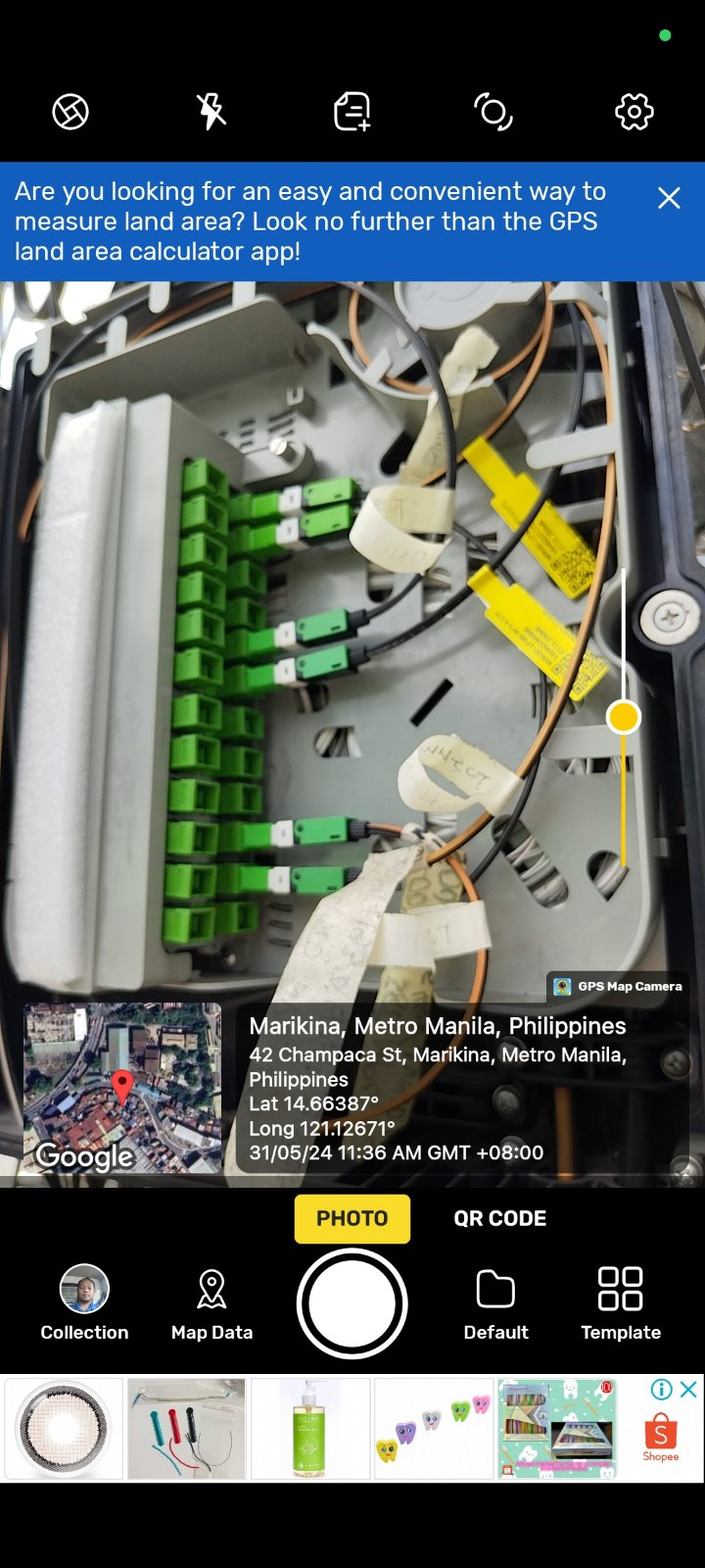no dust cap: (204, 498, 229, 538), (188, 908, 215, 943), (198, 650, 224, 686), (203, 572, 226, 611), (206, 460, 229, 499), (203, 536, 227, 573), (194, 780, 220, 813), (200, 611, 225, 645), (197, 696, 222, 729), (196, 735, 220, 768), (191, 867, 217, 897), (192, 823, 218, 853), (245, 599, 266, 632), (236, 902, 259, 930), (241, 784, 263, 813), (248, 562, 267, 595), (244, 708, 264, 739), (243, 748, 263, 777)
occupied: (248, 642, 370, 696), (250, 604, 370, 656), (251, 473, 362, 523), (252, 503, 353, 557), (243, 814, 367, 847), (239, 866, 360, 894)
